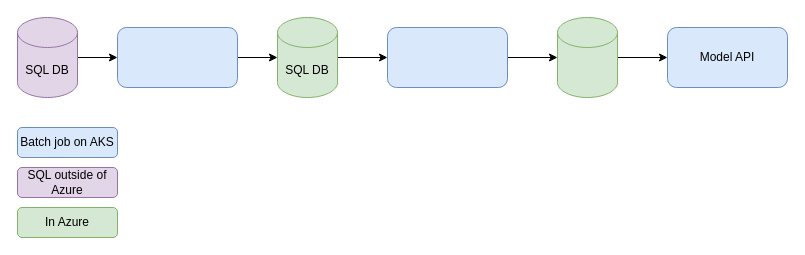
Image size: 805x255. Some labels were removed from this diagram. The centre of each missing label's shape, as x and y in pixels:
"Blob storage" belongs at point 587,57.
"Model Traning" belongs at point 447,57.
"Preprosessing" belongs at point 177,57.
